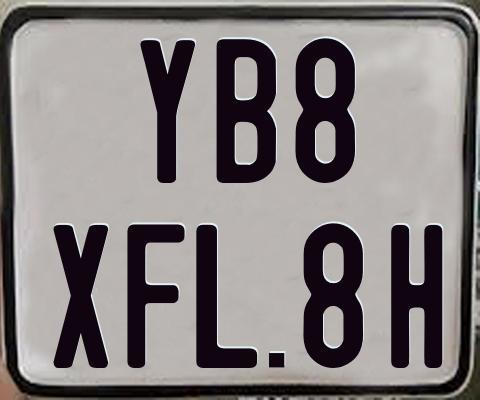8: (295, 36, 361, 187), (303, 223, 365, 374)
B: (213, 38, 274, 184)
F: (125, 224, 185, 371)
H: (389, 222, 442, 369)
L: (195, 222, 261, 368)
X: (50, 225, 108, 371)
Y: (140, 40, 196, 189)
